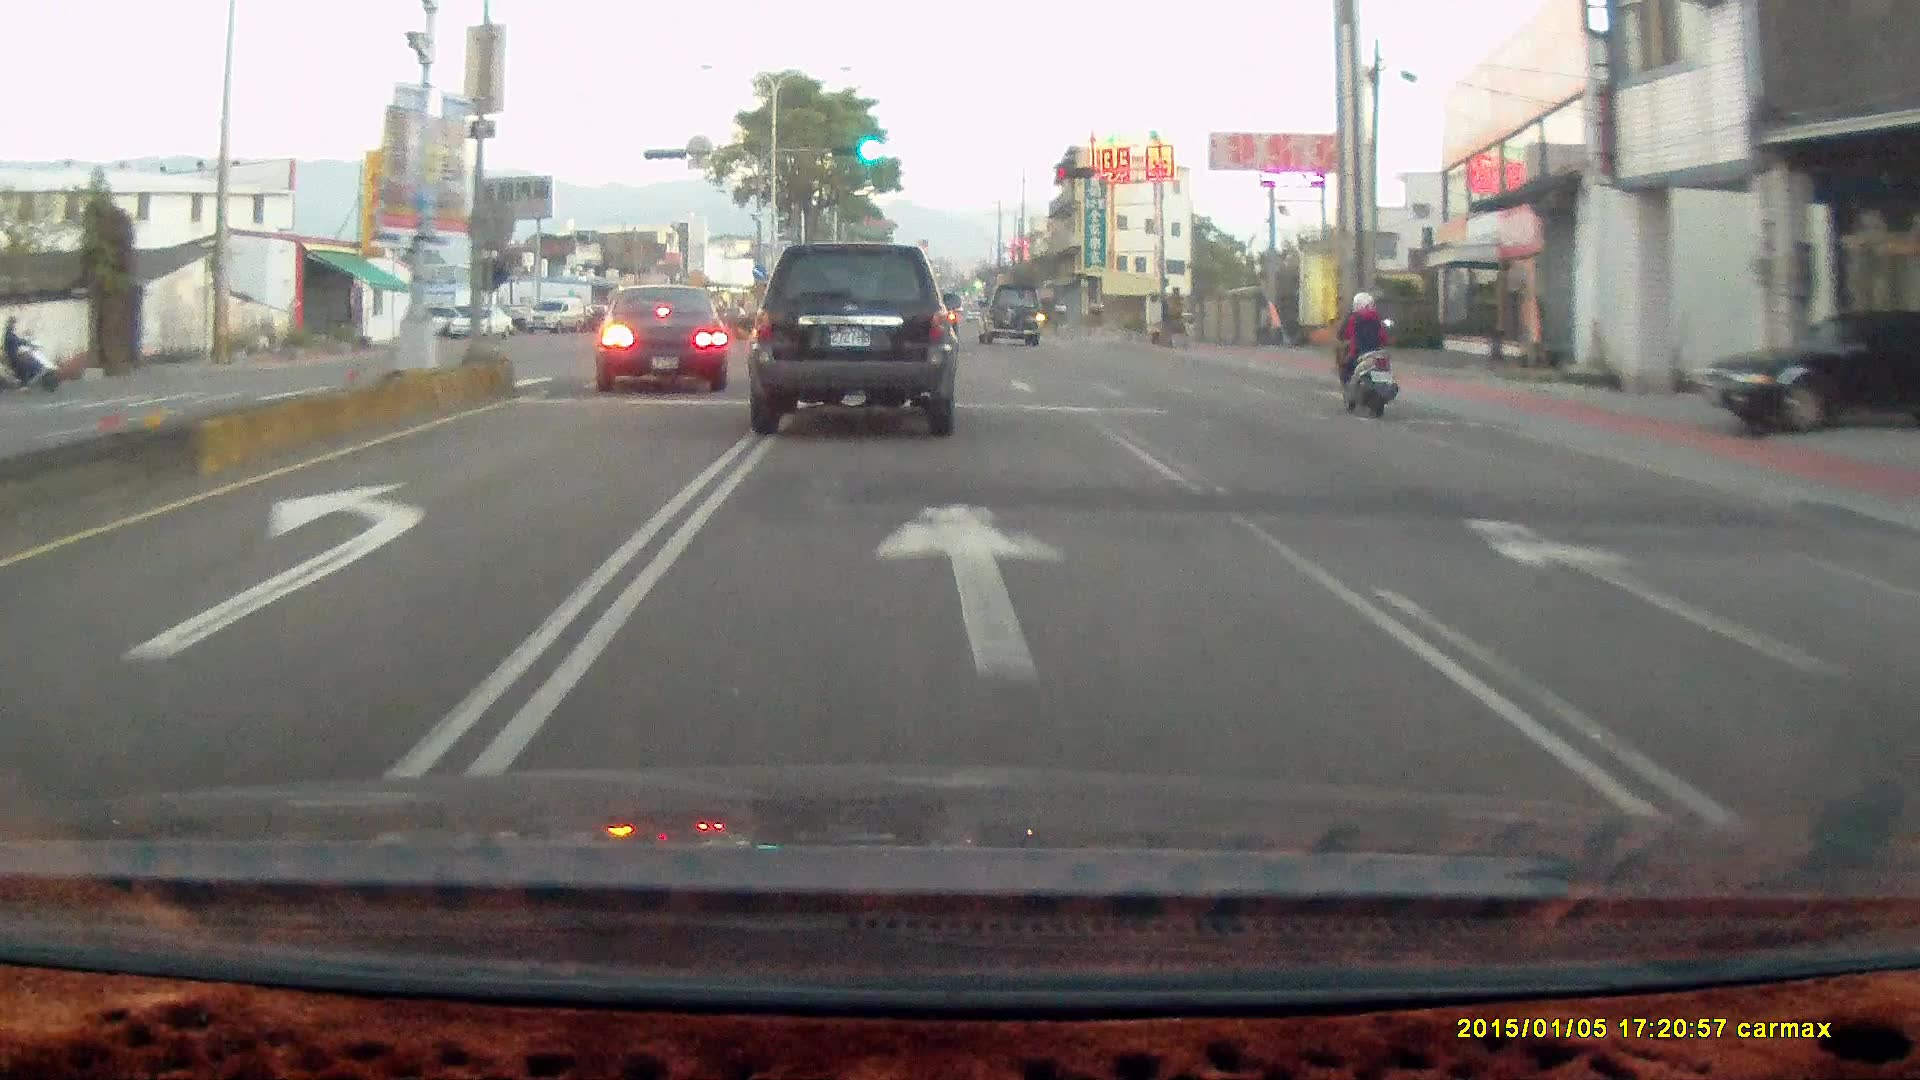rider: (1318, 277, 1413, 428), (1326, 291, 1395, 419), (0, 315, 65, 389)
vehicle: (745, 234, 963, 433), (746, 242, 960, 437), (1700, 306, 1920, 435), (1716, 305, 1904, 442), (591, 284, 736, 399), (588, 284, 729, 395), (975, 283, 1046, 349), (974, 282, 1041, 345), (445, 303, 511, 340), (525, 296, 584, 332)
